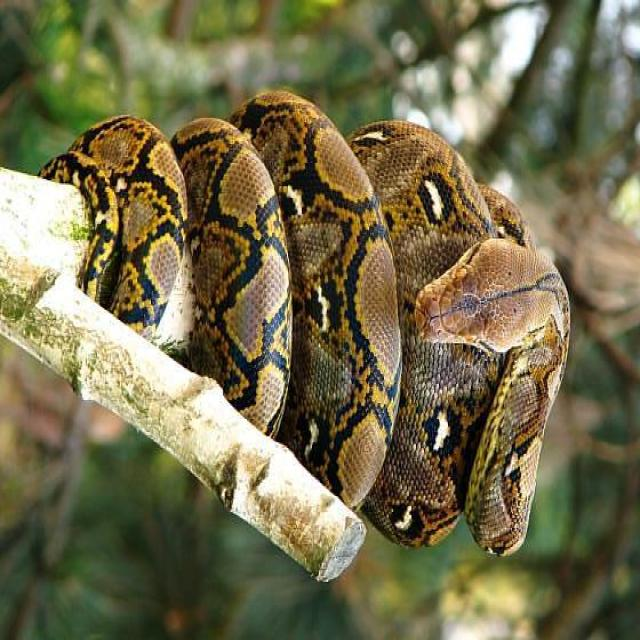Non-Venomous: (406, 223, 577, 382)
